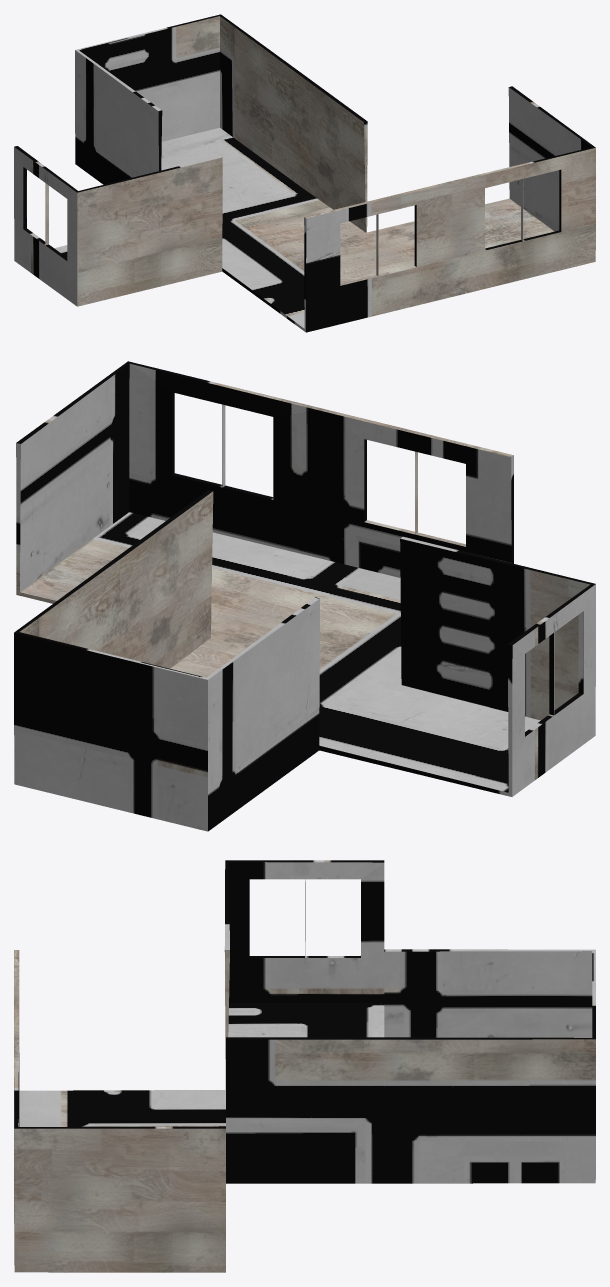
The model's file is apartment2.fbx.
3 views of the same model, one above another, from view 1: azimuth 30°, elevation 25°; view 2: azimuth 150°, elevation 25°; view 3: azimuth 270°, elevation 25° (orthographic). The views are drawn at different scales.
Visible parts, largest first — view 1: main_apartment_applied; view 2: main_apartment_applied; view 3: main_apartment_applied.
Boxes of the visible parts, x1,y1,x2,y2 form: main_apartment_applied: (14,14,595,332); main_apartment_applied: (14,361,595,831); main_apartment_applied: (14,860,595,1272).
Bounding box in the file's own units: 1205 × 302 × 1104.
